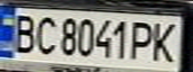0: (75, 16, 96, 58)
1: (109, 17, 133, 60)
4: (93, 16, 115, 58)
8: (54, 15, 78, 57)
B: (6, 11, 39, 55)
C: (30, 12, 60, 56)
K: (148, 19, 184, 63)
P: (127, 18, 160, 61)
